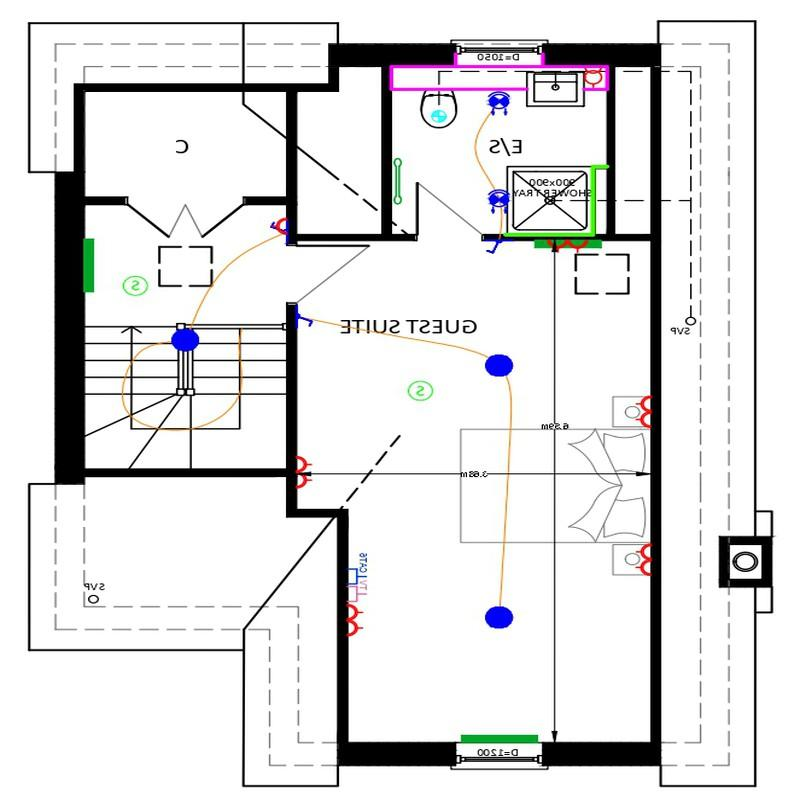Cat 6 Data Socket: (344, 554, 374, 586)
Ceiling Mounted Continuous Extract Fan With Boost Mode Activated By Light Switch: (427, 105, 449, 134)
Co-Ax TV Socket: (337, 583, 372, 604)
Double Socket: (288, 454, 327, 494), (627, 538, 654, 590), (346, 602, 368, 644), (542, 236, 592, 254), (634, 390, 655, 430)
Full Height Tiling: (583, 154, 608, 235), (504, 227, 593, 238)
Light Switch: (264, 206, 285, 248), (290, 305, 316, 336), (484, 237, 510, 259)
Low Energy Downlighter: (478, 80, 514, 131), (484, 184, 517, 218)
Low Energy Pendant Light: (478, 345, 517, 387), (168, 321, 208, 360), (480, 601, 517, 639)
Mains Wired Smoke Detector: (121, 269, 150, 301), (408, 374, 438, 404)
Radiator: (522, 238, 608, 254), (455, 728, 545, 742), (83, 232, 100, 300)
Shaver Socket: (577, 61, 606, 103)
Single Socket: (273, 216, 288, 242)
